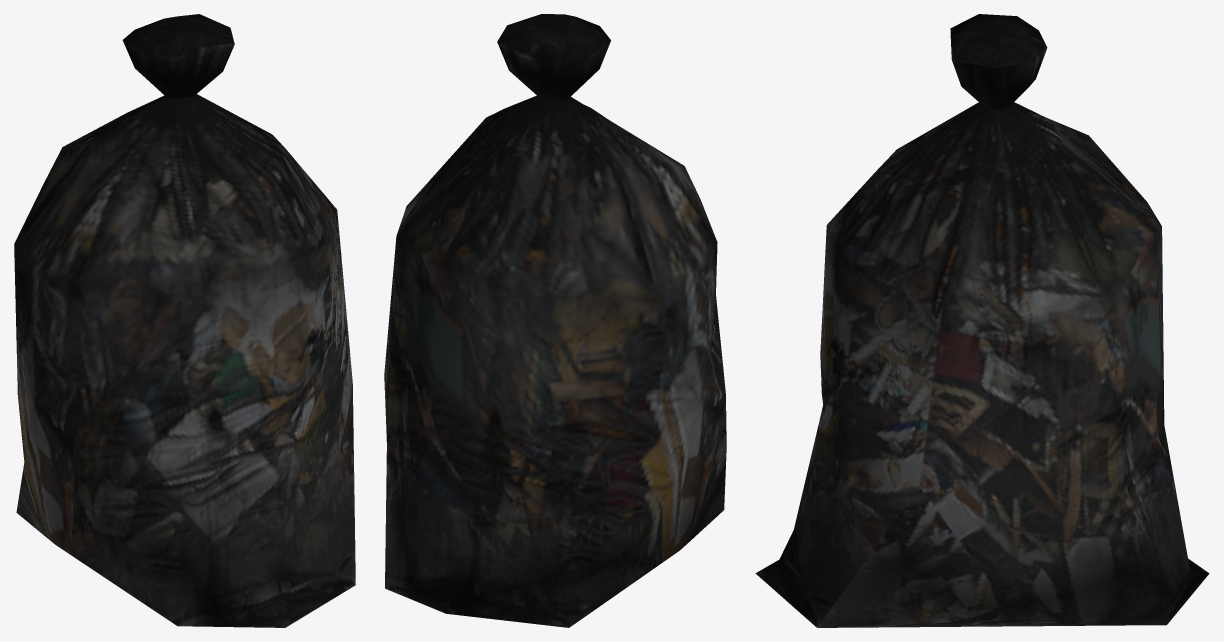
Rendered from CP_Trash_Bag_04.fbx.
3 views of the same model, side by side, from view 1: azimuth 30°, elevation 25°; view 2: azimuth 150°, elevation 25°; view 3: azimuth 270°, elevation 25° (orthographic). The views are drawn at different scales.
Parts seen in each view (by area): view 1: CP_Trash_Bag_04_LOD0; view 2: CP_Trash_Bag_04_LOD0; view 3: CP_Trash_Bag_04_LOD0.
Boxes of the visible parts, <box> form: CP_Trash_Bag_04_LOD0: <box>14,14,355,627</box>; CP_Trash_Bag_04_LOD0: <box>384,14,726,627</box>; CP_Trash_Bag_04_LOD0: <box>755,14,1209,627</box>.
Size of what is drawn, in the model's own units: 50.42 by 87.28 by 64.88.
